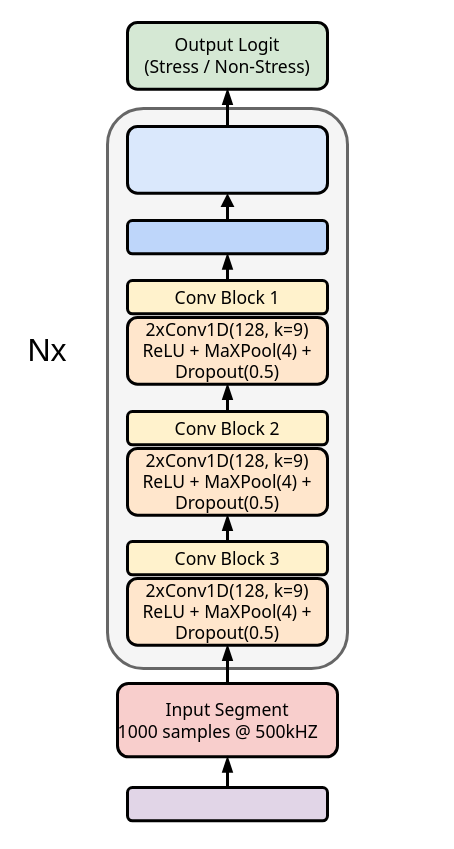
The diagram is 454 pixels wide and 849 high, and some of its shapes have lost their labels. Here are the shapes that lost their labels. From the top down, the box of each, then its label:
(126, 124, 328, 194): Dense(128) + ReLU Dropout(0.5)
(126, 218, 328, 255): Flatten
(126, 786, 328, 822): Inputs
